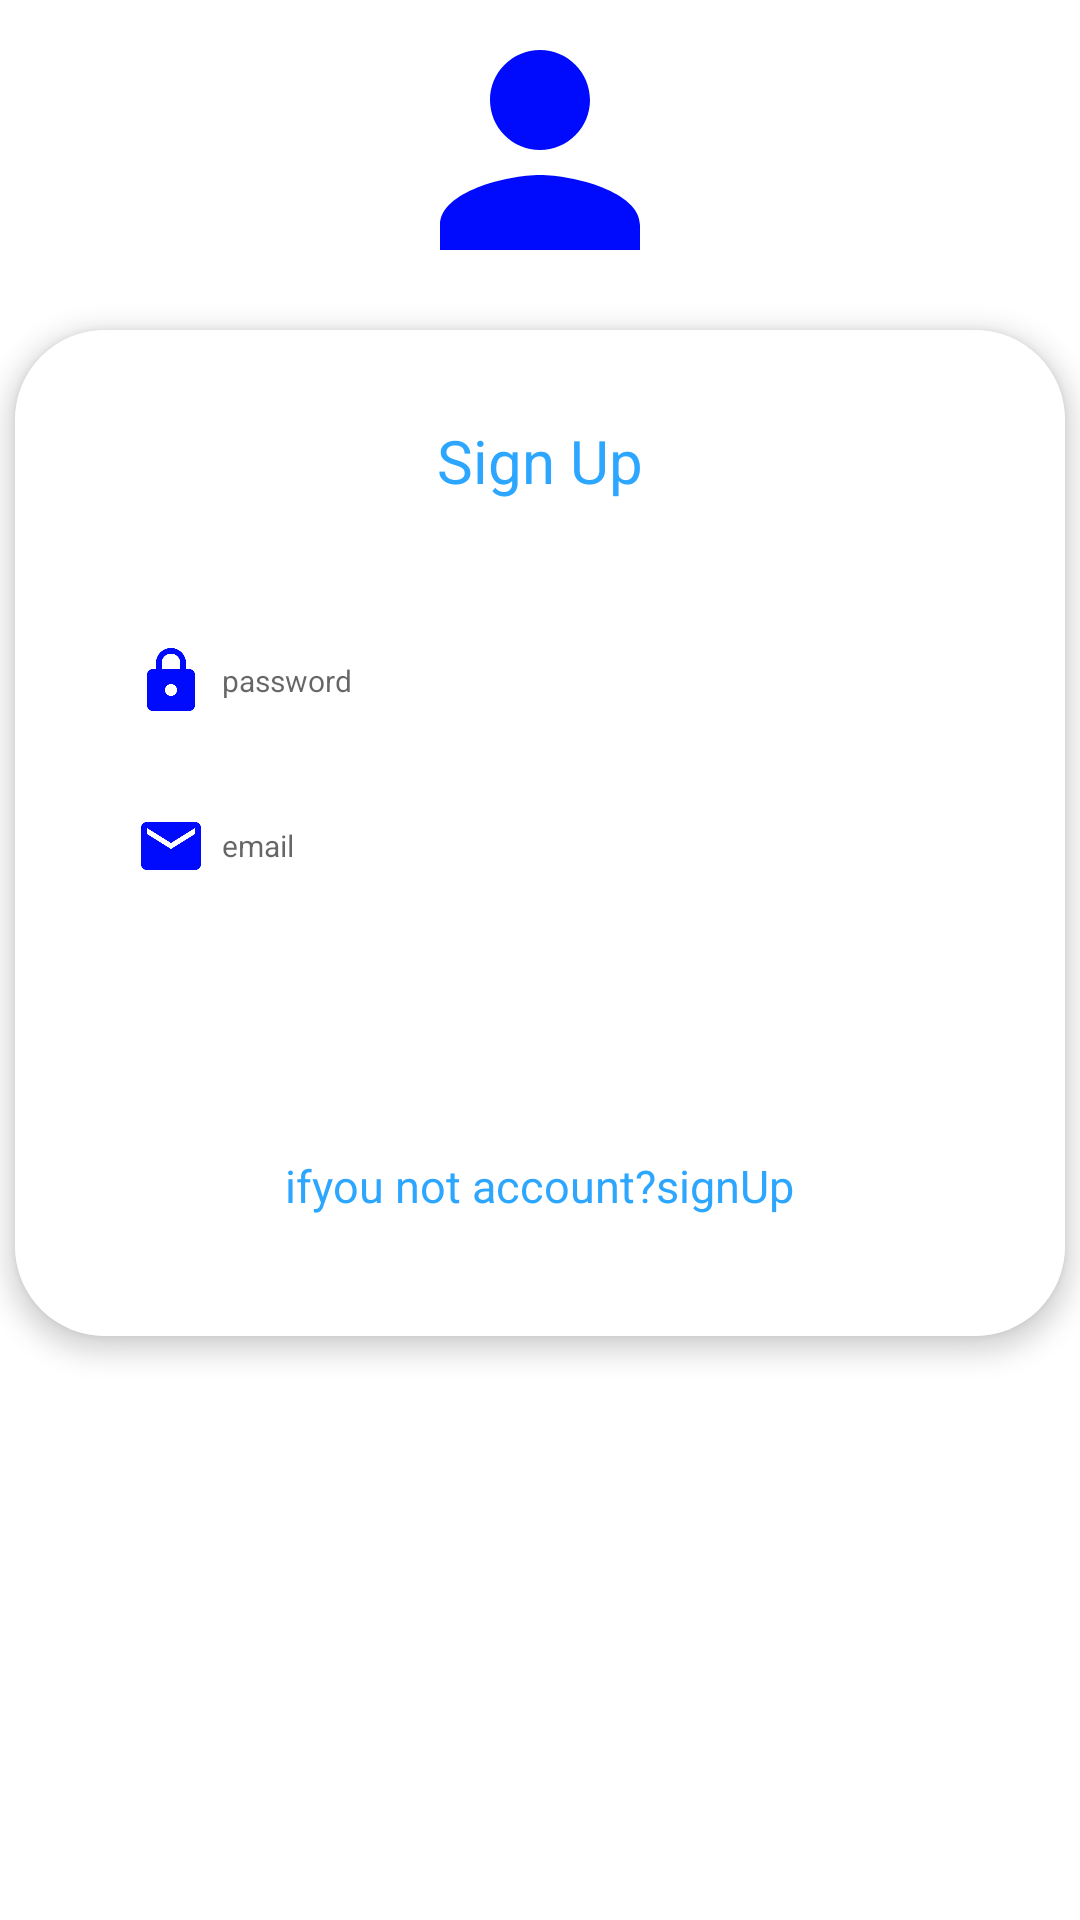

Screen size 1080w x 1920h. Icon name, then its center in pixels as point (x, y):
person: point (540, 150)
